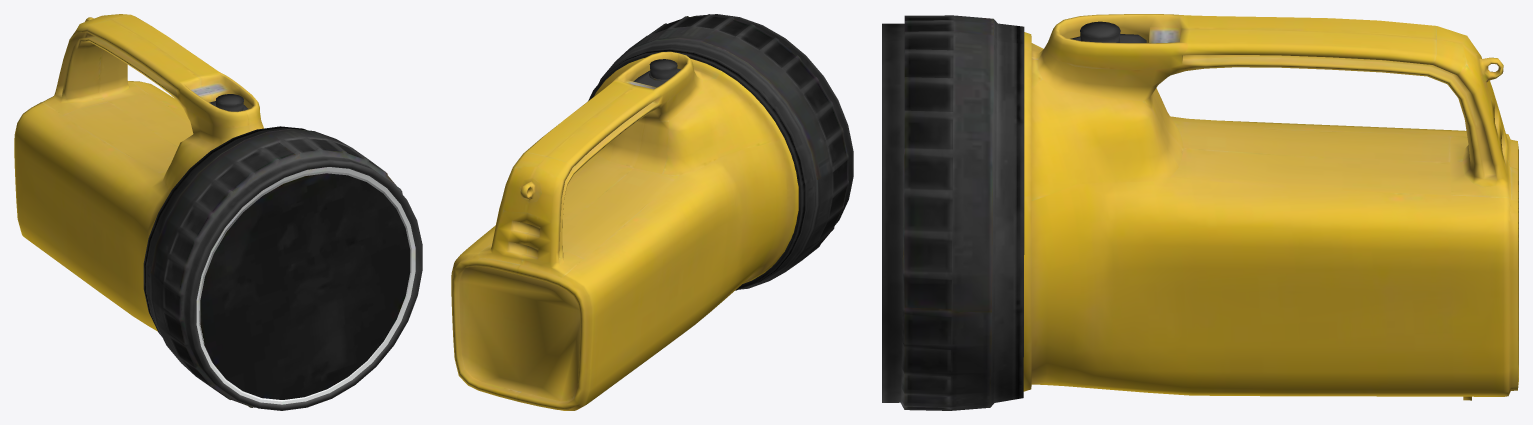
File: pastic_torch_6v.glb
3 renders of one model, left to right at view 1: azimuth 30°, elevation 25°; view 2: azimuth 150°, elevation 25°; view 3: azimuth 270°, elevation 25°, orthographic. The views are drawn at different scales.
Parts seen in each view (by area): view 1: pastic_torch_6v; view 2: pastic_torch_6v; view 3: pastic_torch_6v.
Part boxes in pixels (x1,y1,x2,y2): pastic_torch_6v: (14, 14, 422, 410); pastic_torch_6v: (451, 14, 853, 410); pastic_torch_6v: (882, 14, 1518, 410).
Bounding box in the file's own units: 0.1369 × 0.1417 × 0.2242.
Materials: 2 (2 with a texture image).
